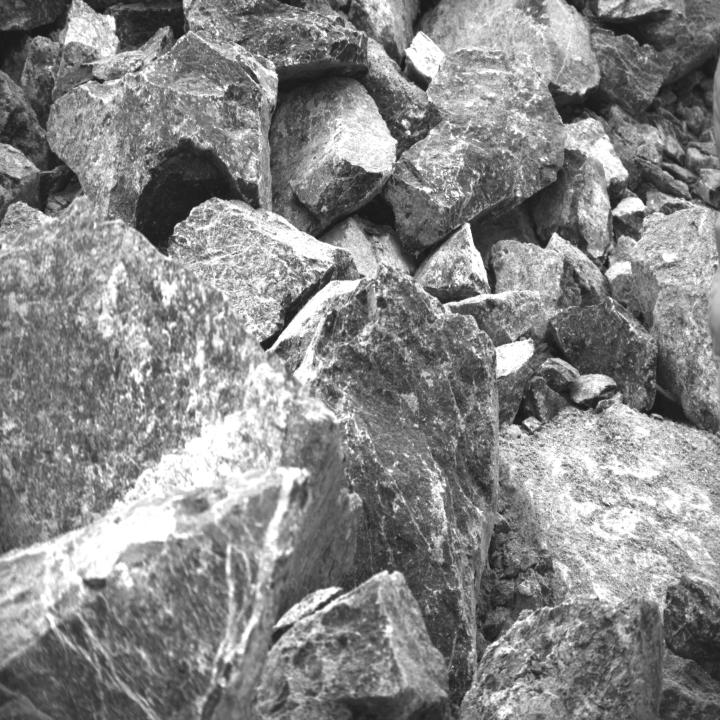stone: (0, 464, 315, 720), (46, 30, 279, 255), (381, 45, 569, 256), (250, 569, 462, 720), (167, 197, 360, 343), (459, 591, 663, 720), (270, 75, 398, 239), (549, 296, 659, 413), (526, 148, 614, 266), (591, 26, 674, 119), (52, 0, 121, 102), (414, 223, 491, 304), (443, 290, 544, 348), (92, 50, 144, 82), (534, 357, 580, 393)
